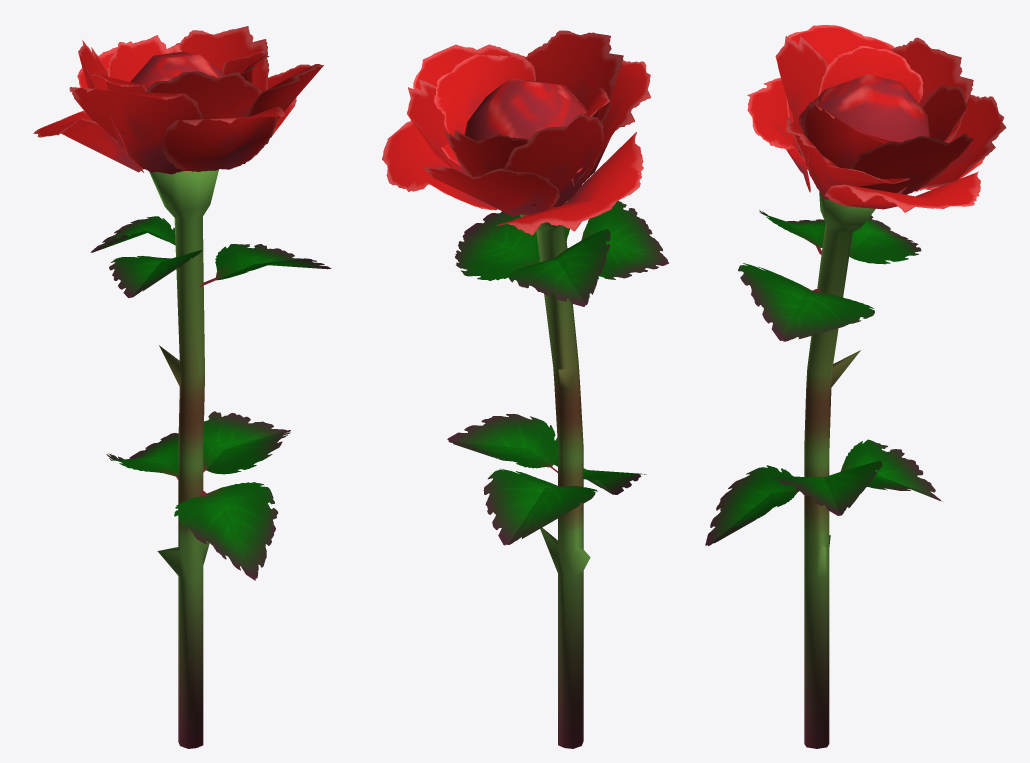
File: Single_Red_Rose.fbx
3 renders of one model, left to right at view 1: azimuth 30°, elevation 25°; view 2: azimuth 150°, elevation 25°; view 3: azimuth 270°, elevation 25°, orthographic. The views are drawn at different scales.
Parts seen in each view (by area): view 1: Single_Red_Rose; view 2: Single_Red_Rose; view 3: Single_Red_Rose.
Boxes of the visible parts, x1,y1,x2,y2 form: Single_Red_Rose: [33, 26, 331, 748]; Single_Red_Rose: [382, 30, 668, 748]; Single_Red_Rose: [705, 25, 1006, 748].
Size of the model in its own units: 25.11 by 63.63 by 25.47.
1 material, 1 textured.
